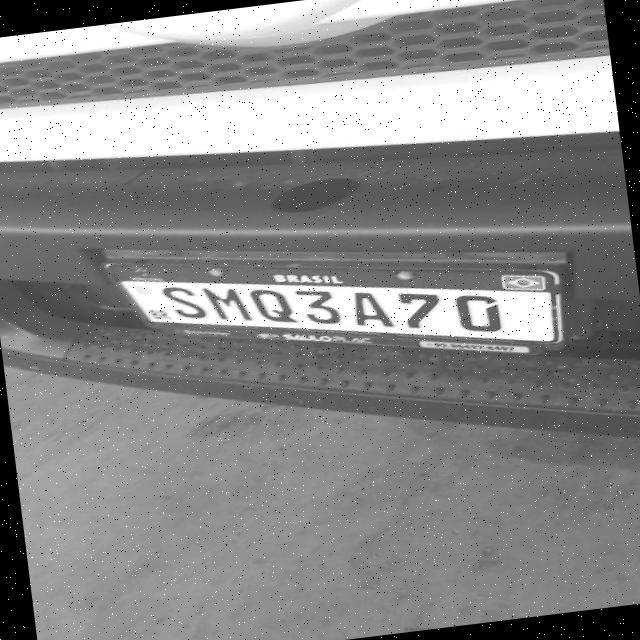placa_mercosul: (102, 251, 566, 352)
